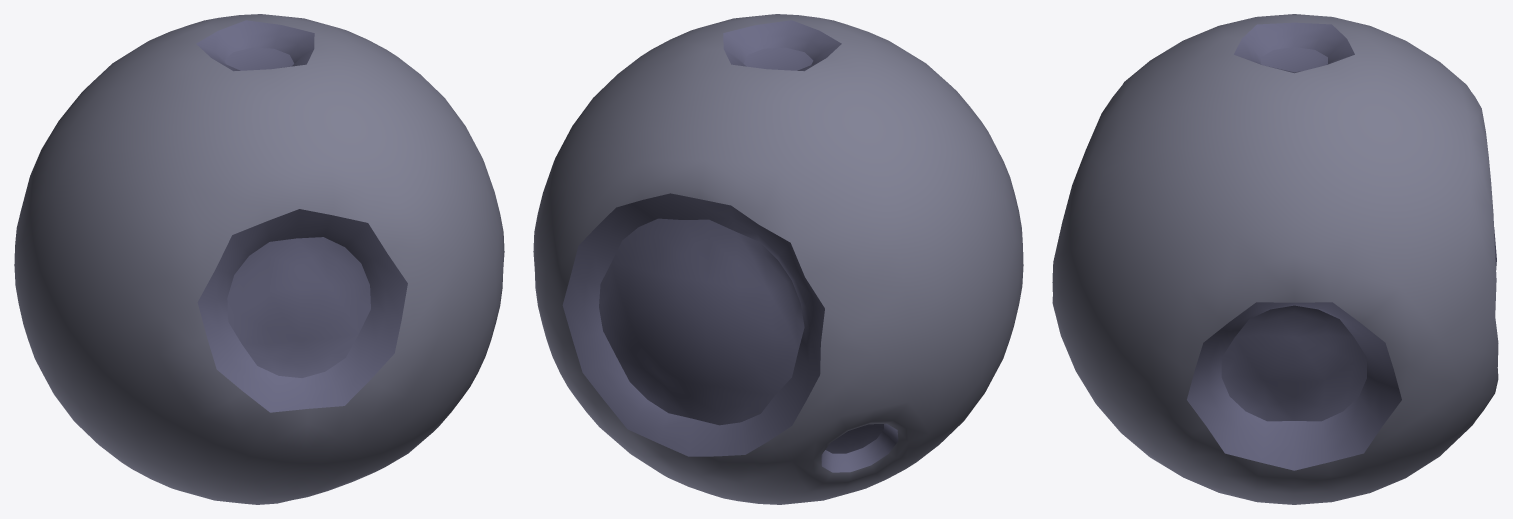
Rendered from Planet_3.glb.
3 views of the same model, side by side, from view 1: azimuth 30°, elevation 25°; view 2: azimuth 150°, elevation 25°; view 3: azimuth 270°, elevation 25° (orthographic).
Visible parts, largest first — view 1: Planet_3; view 2: Planet_3; view 3: Planet_3.
Part boxes in pixels (bbox=[...]): Planet_3: bbox=[14, 14, 504, 504]; Planet_3: bbox=[533, 14, 1023, 504]; Planet_3: bbox=[1052, 14, 1498, 504].
Bounding box in the file's own units: 3.63 × 3.65 × 3.38.
1 material, 1 textured.
